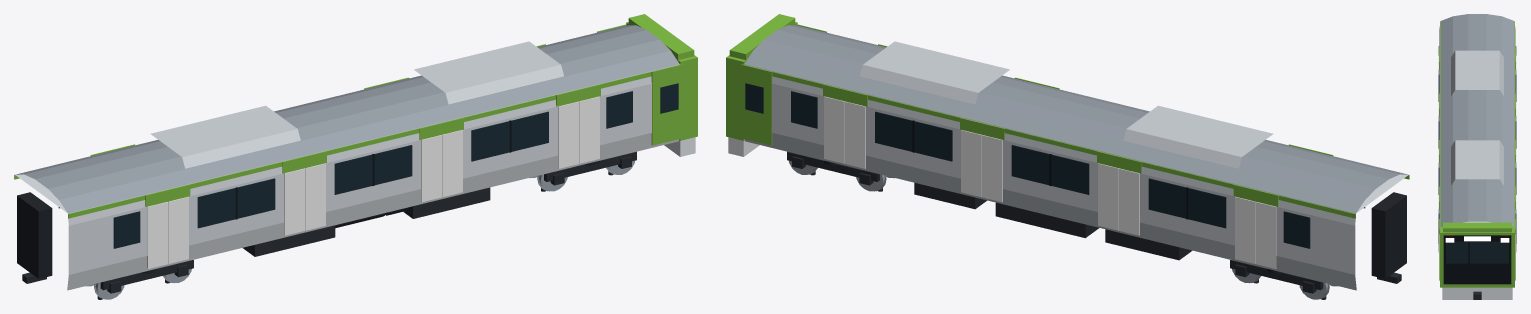
File: jr-east-e235-0-lead.glb
3 views of the same model, side by side, from view 1: azimuth 30°, elevation 25°; view 2: azimuth 150°, elevation 25°; view 3: azimuth 270°, elevation 25° (orthographic). The views are drawn at different scales.
Parts seen in each view (by area): view 1: Roof_Crown, Body_Shell, Doors_And_Windows, Roof_HVAC (×2), Lead_Cab_Front, Gangway_Rear, Underfloor_Equipment, Car_Canonical, Door_R_2_Rear, Door_R_1_Rear, Door_R_1_Fwd, Door_R_2_Fwd (+6 smaller); view 2: Roof_Crown, Body_Shell, Doors_And_Windows, Roof_HVAC (×2), Lead_Cab_Front, Underfloor_Equipment, Gangway_Rear, Car_Canonical, Door_L_2_Rear, Door_L_1_Rear, Door_L_1_Fwd, Door_L_2_Fwd (+6 smaller); view 3: Roof_Crown, Lead_Cab_Front, Roof_HVAC (×2), Doors_And_Windows, Body_Shell, Car_Canonical, Destination_Sign_Front.
Part boxes in pixels (x1,y1,x2,y2): Roof_Crown: [16, 25, 679, 213]; Body_Shell: [15, 64, 679, 290]; Doors_And_Windows: [58, 44, 632, 267]; Roof_HVAC (×2): [150, 41, 563, 168]; Lead_Cab_Front: [597, 14, 697, 156]; Gangway_Rear: [17, 192, 52, 283]; Underfloor_Equipment: [243, 187, 490, 256]; Car_Canonical: [14, 66, 674, 218]; Door_R_2_Rear: [284, 168, 305, 235]; Door_R_1_Rear: [147, 202, 168, 268]; Door_R_1_Fwd: [168, 196, 188, 263]; Door_R_2_Fwd: [305, 163, 325, 230]; Roof_Crown: [744, 25, 1407, 213]; Body_Shell: [744, 64, 1408, 290]; Doors_And_Windows: [791, 44, 1365, 267]; Roof_HVAC (×2): [860, 41, 1273, 168]; Lead_Cab_Front: [726, 14, 826, 156]; Underfloor_Equipment: [914, 182, 1192, 260]; Gangway_Rear: [1371, 192, 1406, 283]; Car_Canonical: [749, 66, 1409, 218]; Door_L_2_Rear: [1118, 168, 1139, 235]; Door_L_1_Rear: [1255, 202, 1276, 268]; Door_L_1_Fwd: [1235, 196, 1255, 263]; Door_L_2_Fwd: [1098, 163, 1118, 230]; Roof_Crown: [1440, 14, 1514, 226]; Lead_Cab_Front: [1439, 219, 1515, 299]; Roof_HVAC (×2): [1451, 50, 1503, 185]; Doors_And_Windows: [1438, 46, 1516, 243]; Body_Shell: [1439, 26, 1515, 233]; Car_Canonical: [1440, 21, 1514, 226]; Destination_Sign_Front: [1464, 236, 1490, 241].
Size of the model in its own units: 20.39 by 4.08 by 3.03.
